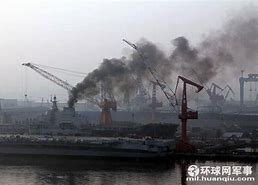smoke: (67, 50, 160, 105)
